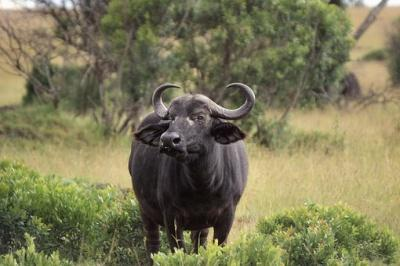buffalo: (128, 83, 254, 254)
